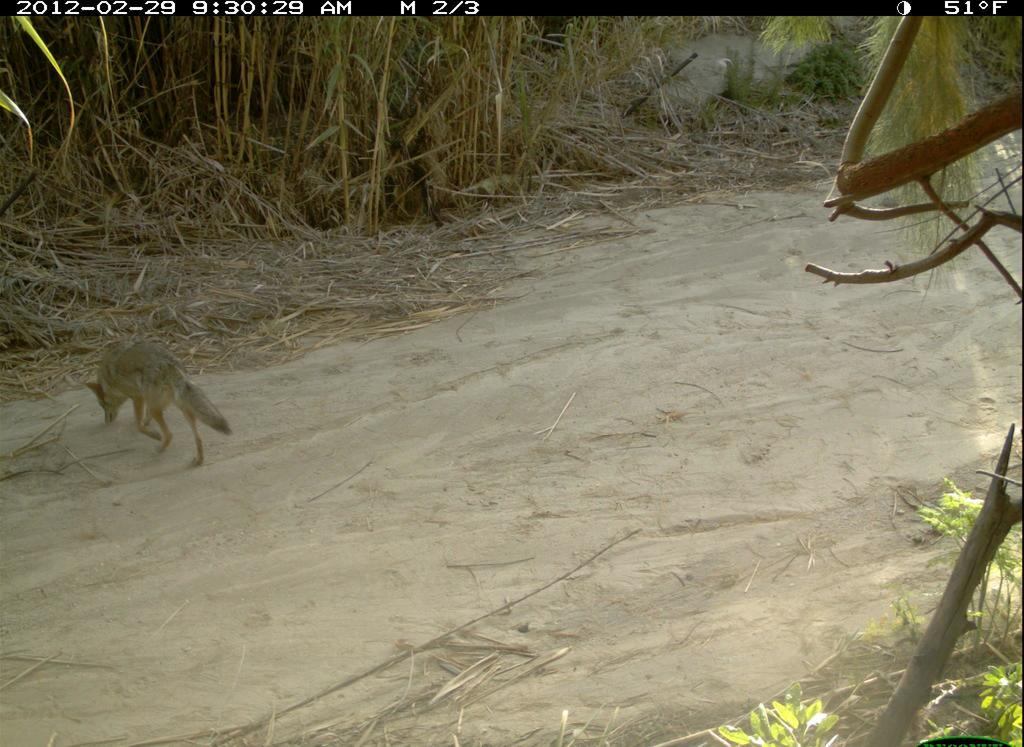coyote: (65, 333, 249, 489)
